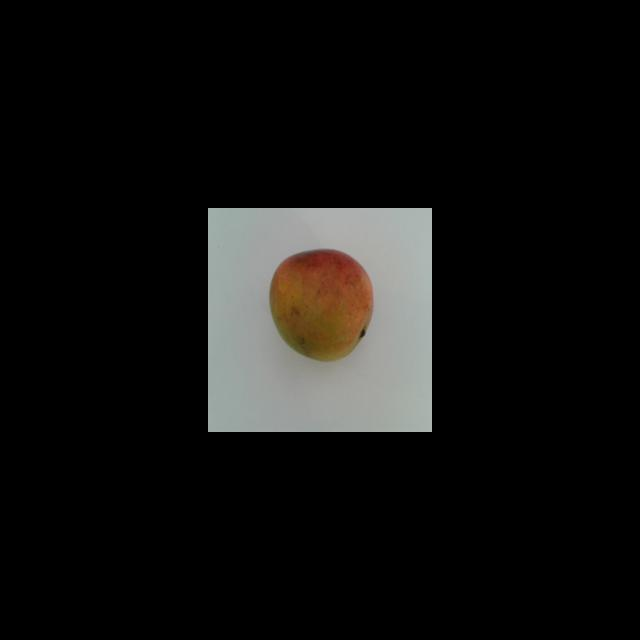Mango: (269, 248, 373, 361)
